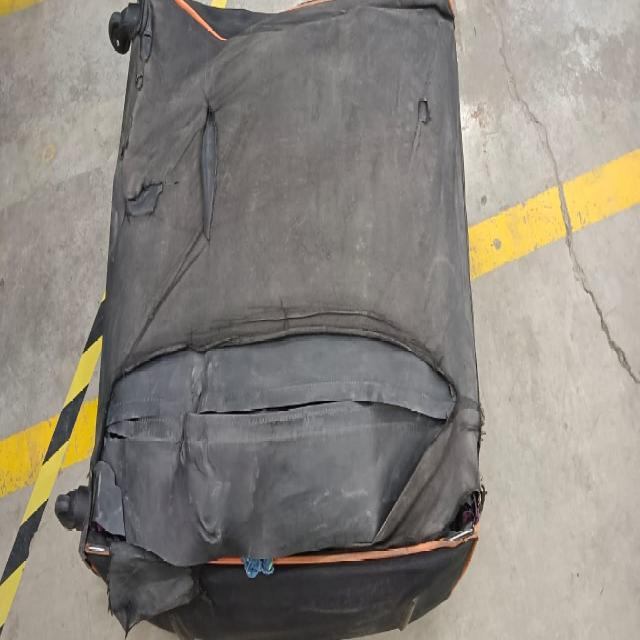Damage-bag: (81, 333, 454, 629), (110, 0, 152, 92), (200, 108, 218, 238), (125, 181, 161, 219), (450, 492, 479, 529), (121, 114, 130, 151), (418, 100, 429, 129)
